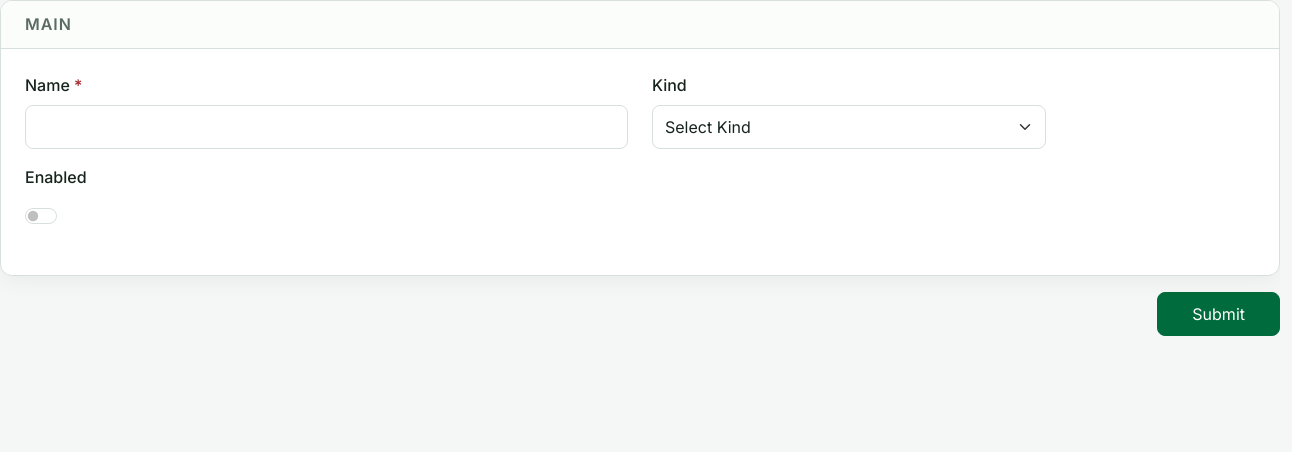
Test: Issue 3 CommonForm › UI-34 maps known server details to fields and keeps unknown failures at form level @issue-3
Type "Ada" into the field labelled "Name *" at {"x": 326, "y": 127}, box [25,105,628,149]
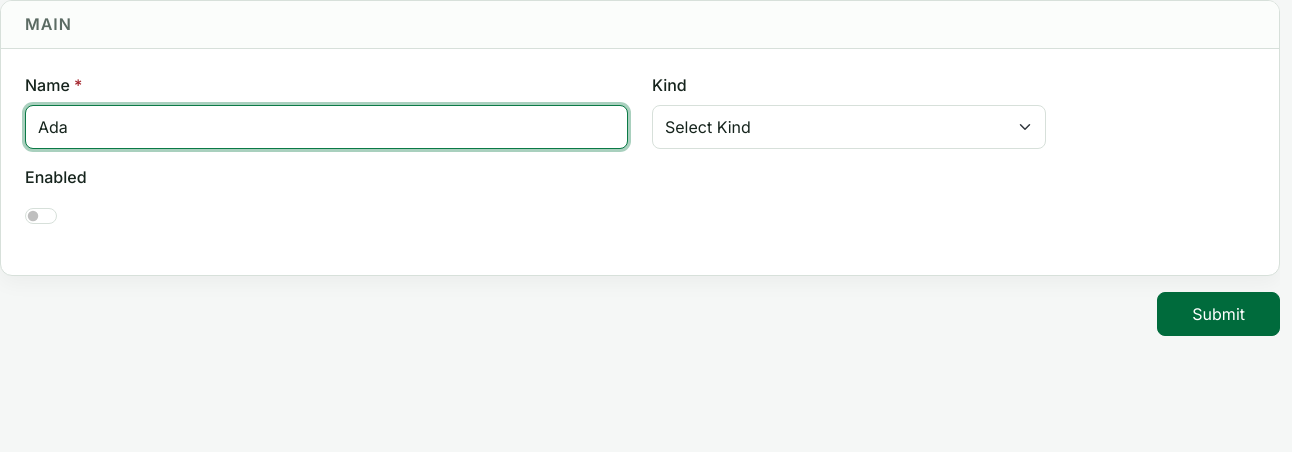
Select "One" in the dropdown labelled "Kind" at {"x": 849, "y": 127}, box [652,105,1046,149]
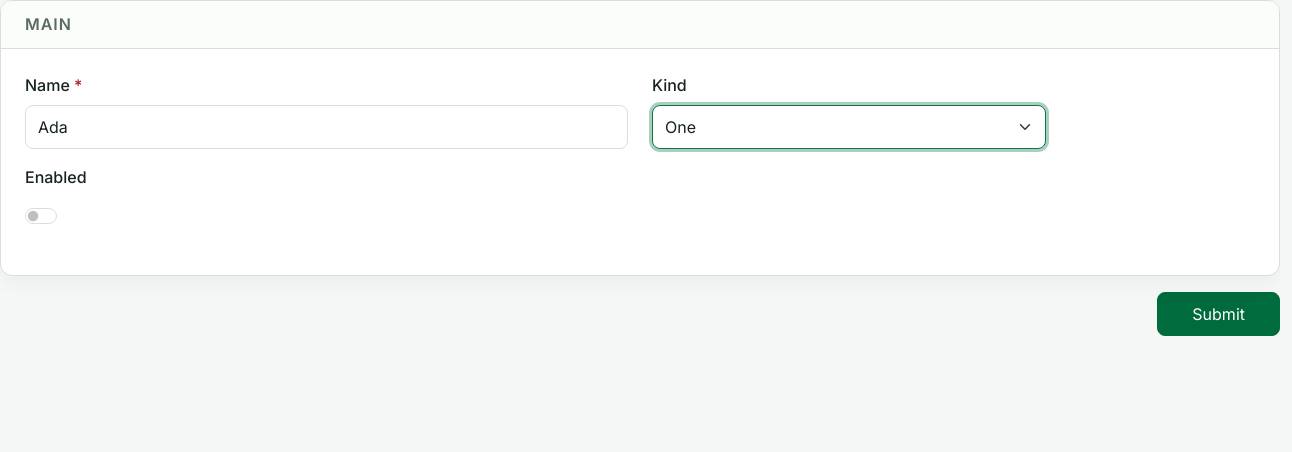
Click the switch labelled "Enabled" at {"x": 41, "y": 216}, box [25,208,57,224]
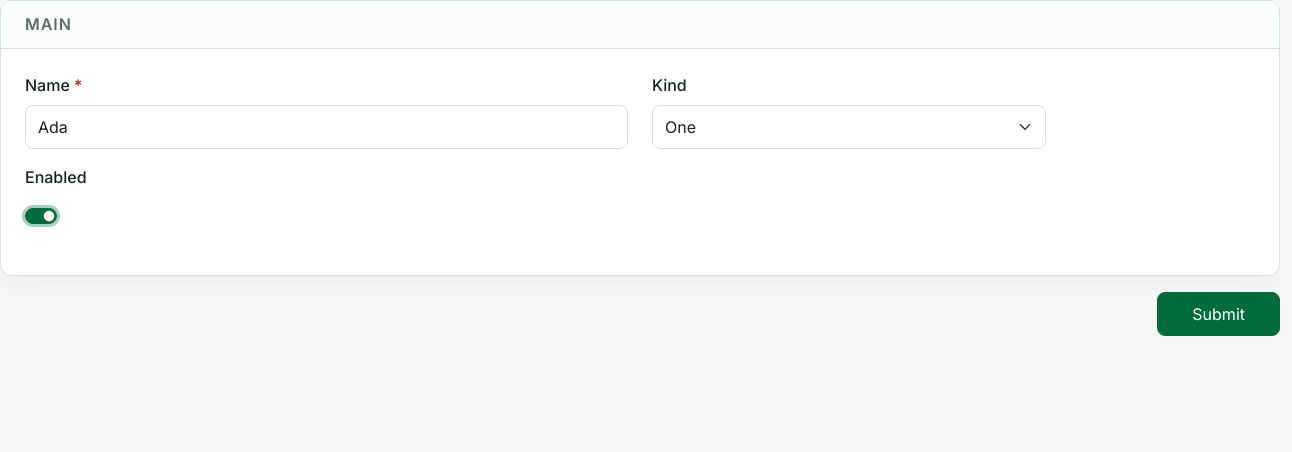
Click the button "Submit" at {"x": 1219, "y": 314}, box [1157,292,1280,336]
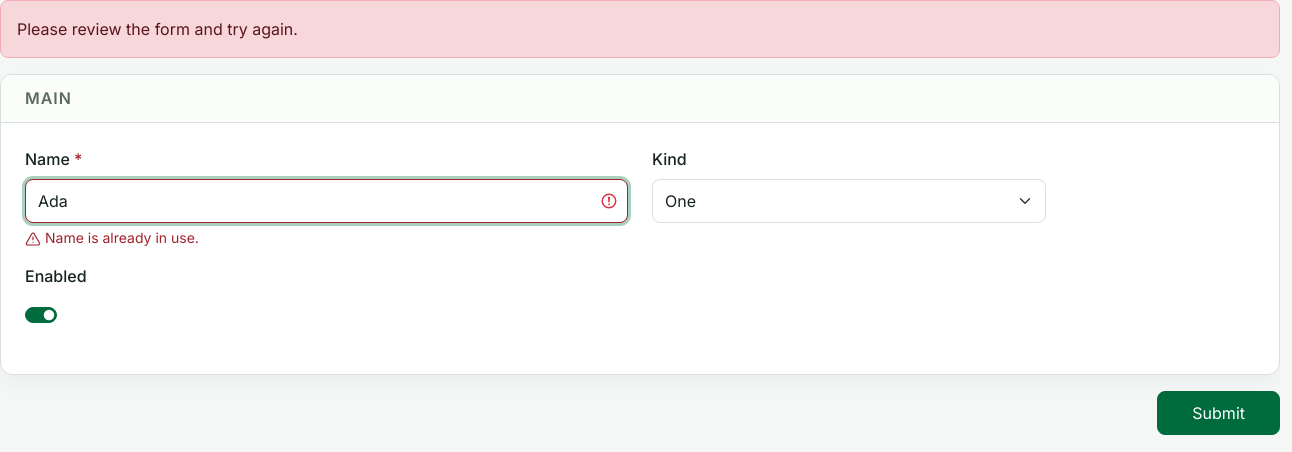
Check: the text "Name is already in use." is shown, box [25,229,199,247]
Check: the message reads "Please review the form and try again.", box [17,19,298,39]
